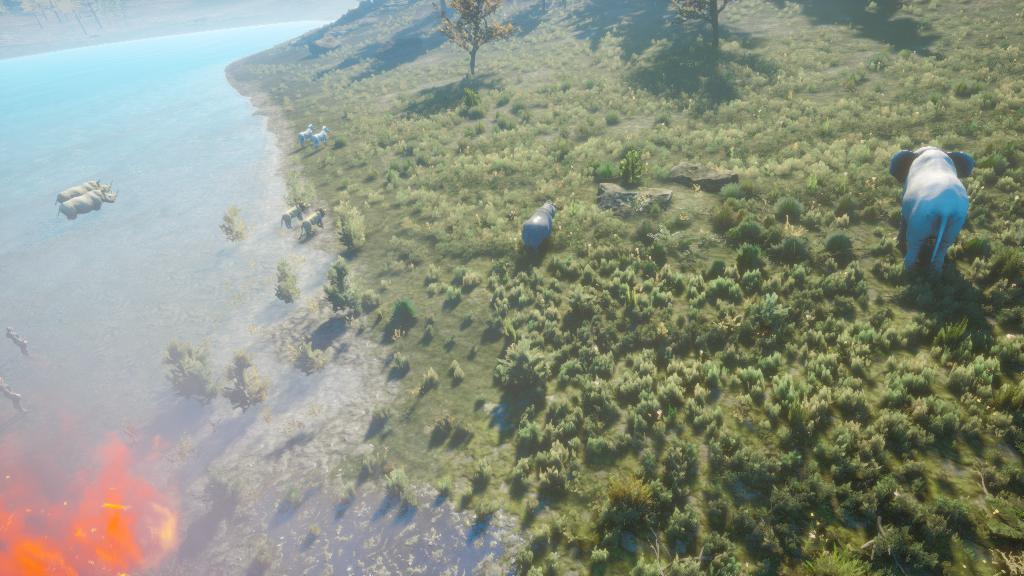elephant: (875, 126, 979, 288)
hippopotamus: (508, 184, 582, 267), (59, 186, 129, 231)
lion: (297, 203, 341, 253), (269, 197, 314, 231)
zebra: (287, 110, 316, 148), (311, 123, 340, 153)
